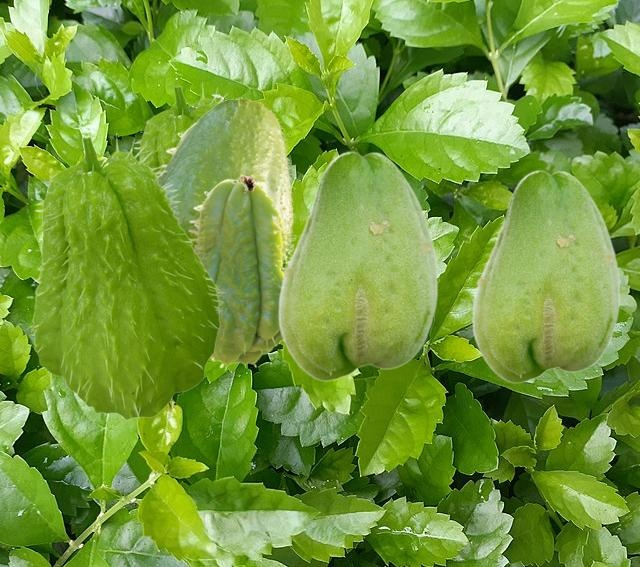sayote: (26, 132, 225, 419), (277, 150, 437, 380), (471, 169, 619, 382), (134, 82, 294, 225), (188, 174, 297, 370), (159, 97, 294, 245)
